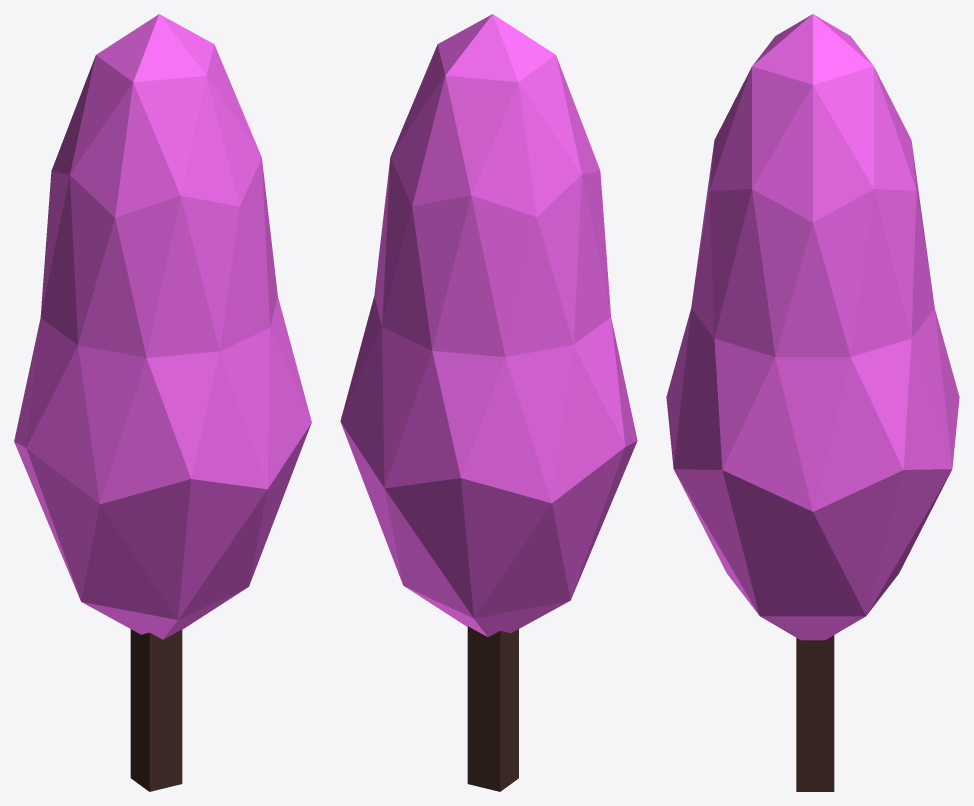
File: Plant 2.fbx
3 renders of one model, left to right at view 1: azimuth 30°, elevation 25°; view 2: azimuth 150°, elevation 25°; view 3: azimuth 270°, elevation 25°, orthographic.
Parts seen in each view (by area): view 1: Potted Plant 2; view 2: Potted Plant 2; view 3: Potted Plant 2.
Part boxes in pixels (x1,y1,x2,y2): Potted Plant 2: [14, 14, 311, 791]; Potted Plant 2: [340, 14, 637, 791]; Potted Plant 2: [666, 14, 959, 791].
Bounding box in the file's own units: 96.3 × 272 × 93.88.
1 material, 1 textured.
